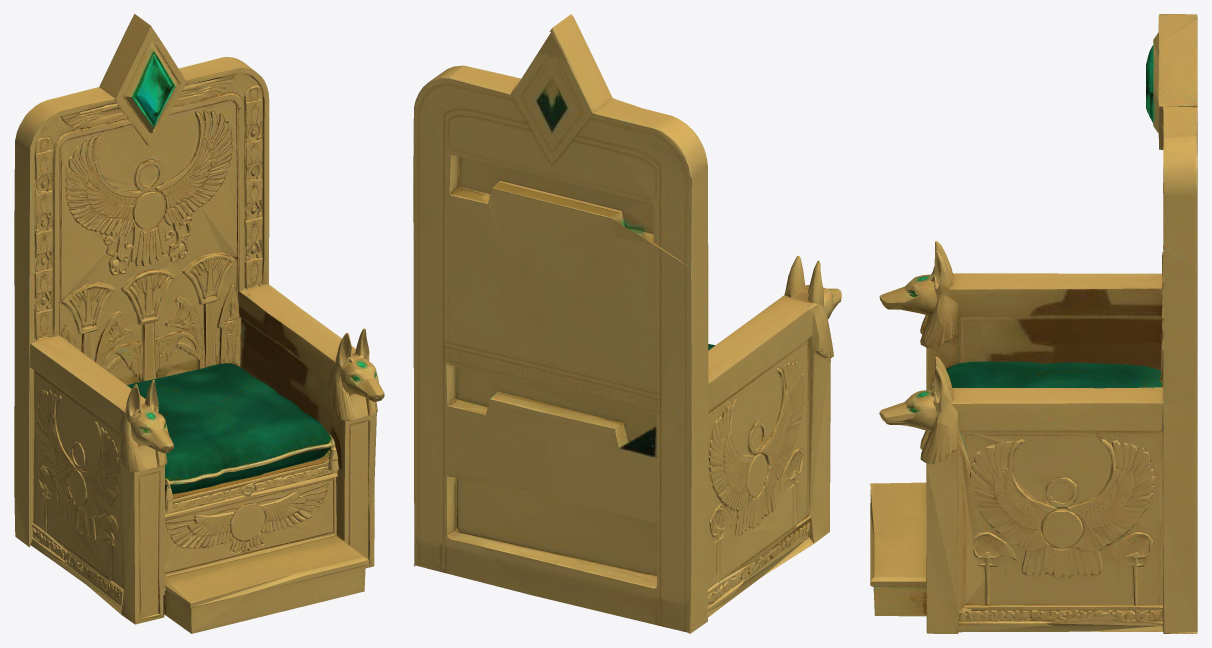
File: et_throne.glb
3 renders of one model, left to right at view 1: azimuth 30°, elevation 25°; view 2: azimuth 150°, elevation 25°; view 3: azimuth 270°, elevation 25°, orthographic. The views are drawn at different scales.
Bounding box in the file's own units: 1.01 × 1.9 × 1.01.
1 material, 1 textured.
